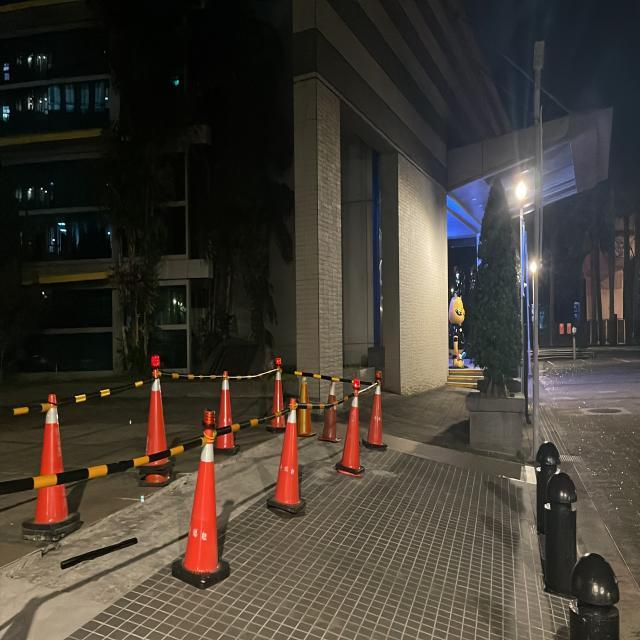traffic cone: (171, 411, 230, 590), (22, 393, 84, 543), (266, 400, 307, 516), (138, 375, 174, 487), (334, 379, 366, 478), (213, 370, 240, 455), (362, 381, 389, 451), (318, 378, 342, 444), (266, 359, 287, 433), (296, 376, 317, 438)
